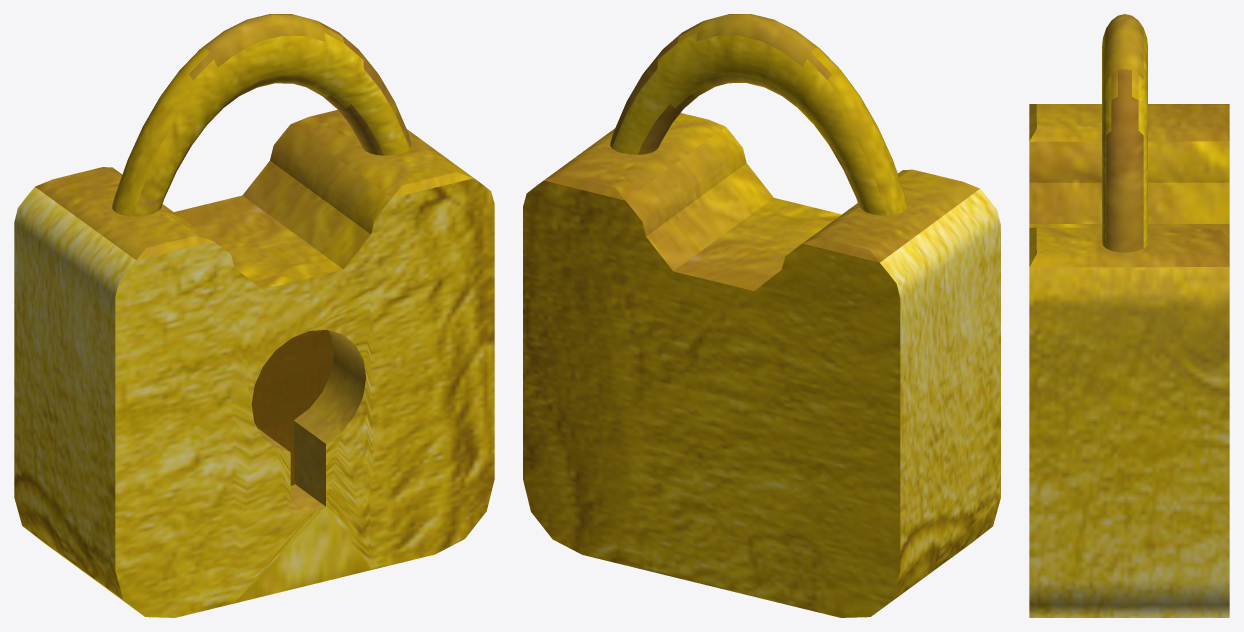
Rendered from Padlock.fbx.
3 views of the same model, side by side, from view 1: azimuth 30°, elevation 25°; view 2: azimuth 150°, elevation 25°; view 3: azimuth 270°, elevation 25° (orthographic).
Visible parts, largest first — view 1: pCube3; view 2: pCube3; view 3: pCube3.
Part boxes in pixels (x1,y1,x2,y2): pCube3: (14,14,494,617); pCube3: (523,14,1000,617); pCube3: (1029,14,1229,617).
Size of the model in its own units: 1.15 by 1.55 by 0.5331.
Materials: 1 (1 with a texture image).
